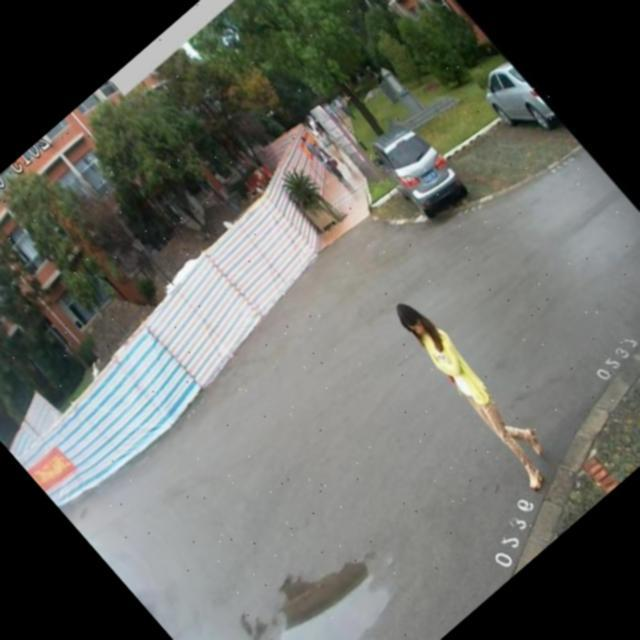person: (376, 284, 568, 496), (310, 140, 358, 192), (313, 125, 358, 175)
